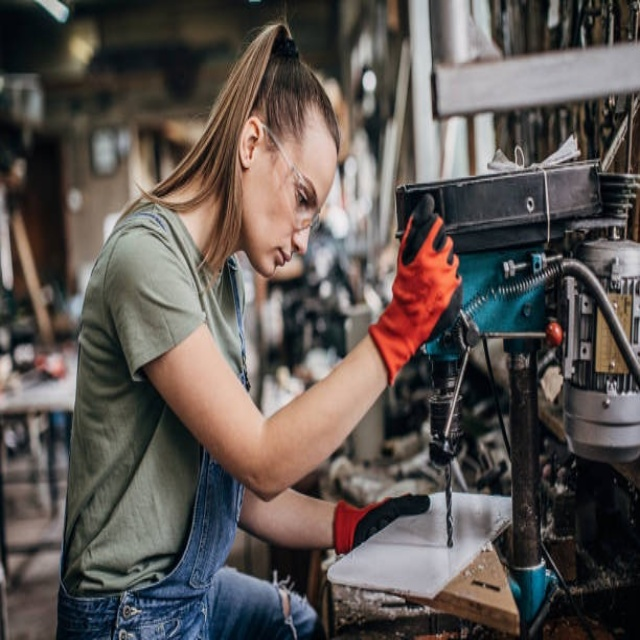Gafas: (259, 121, 323, 239)
Guantes: (368, 208, 463, 382), (333, 492, 430, 554)
Sin_mascara: (259, 240, 295, 284)
